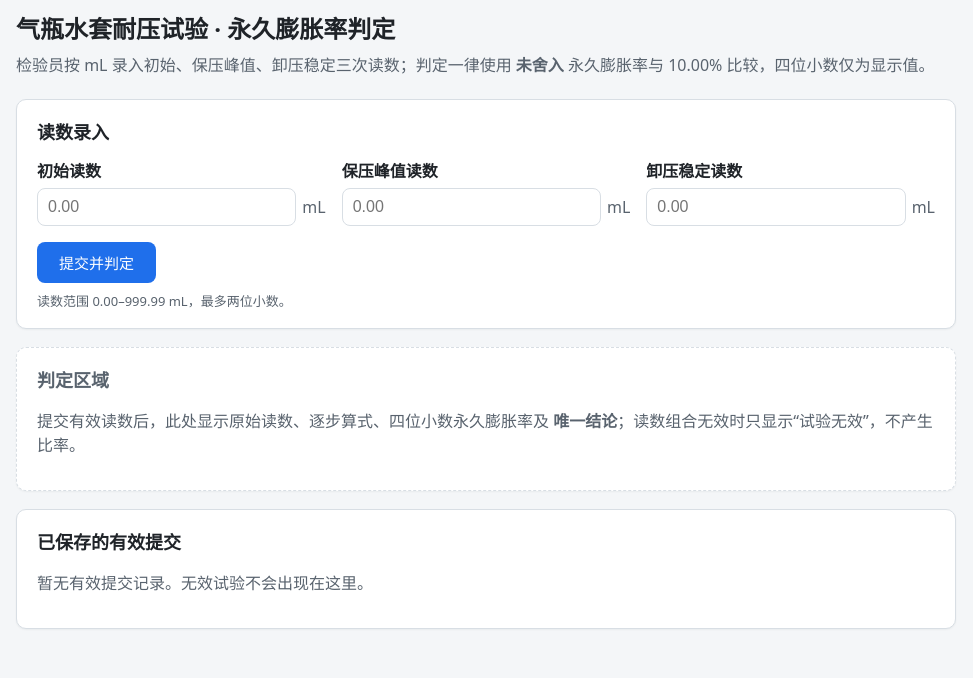
App 判定流程（fetch 为接缝，展示与交互全真实） › 无效结论在修改读数时也立即清除
Type "10.00" into the field with test id "input-initial" at [167, 207], box [37, 188, 296, 226]
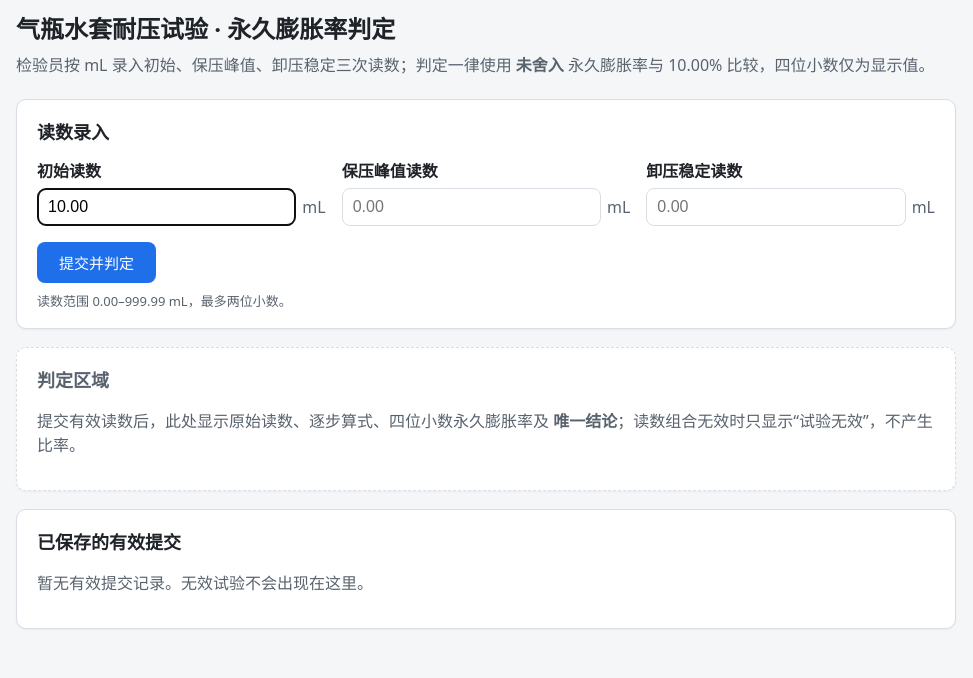
Type "20.00" into the field with test id "input-peak" at [471, 207], box [342, 188, 601, 226]
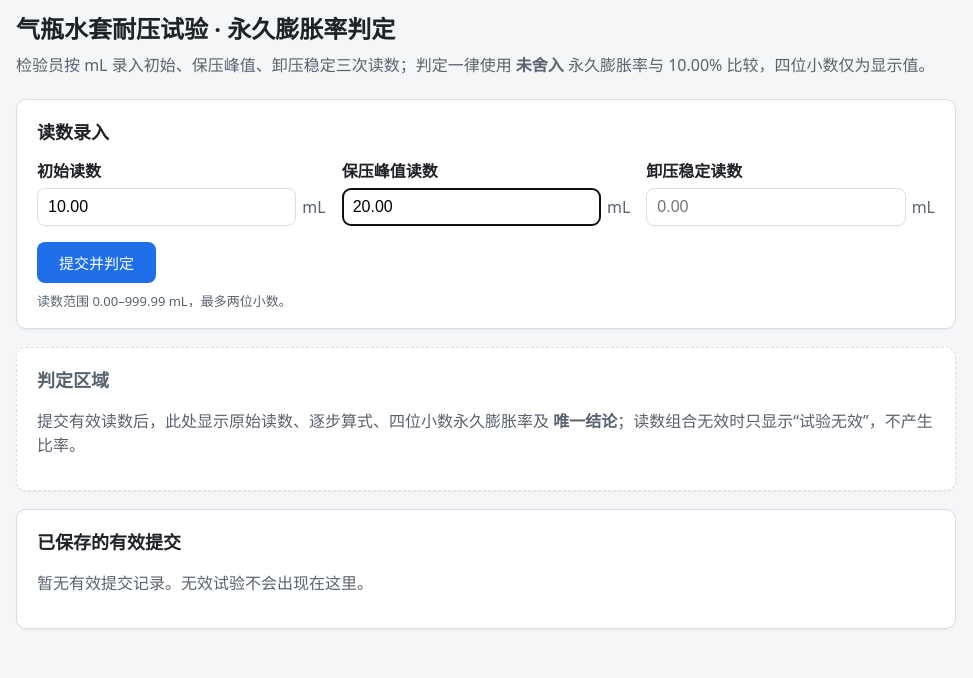
Type "9.99" into the field with test id "input-released" at [776, 207], box [646, 188, 906, 226]
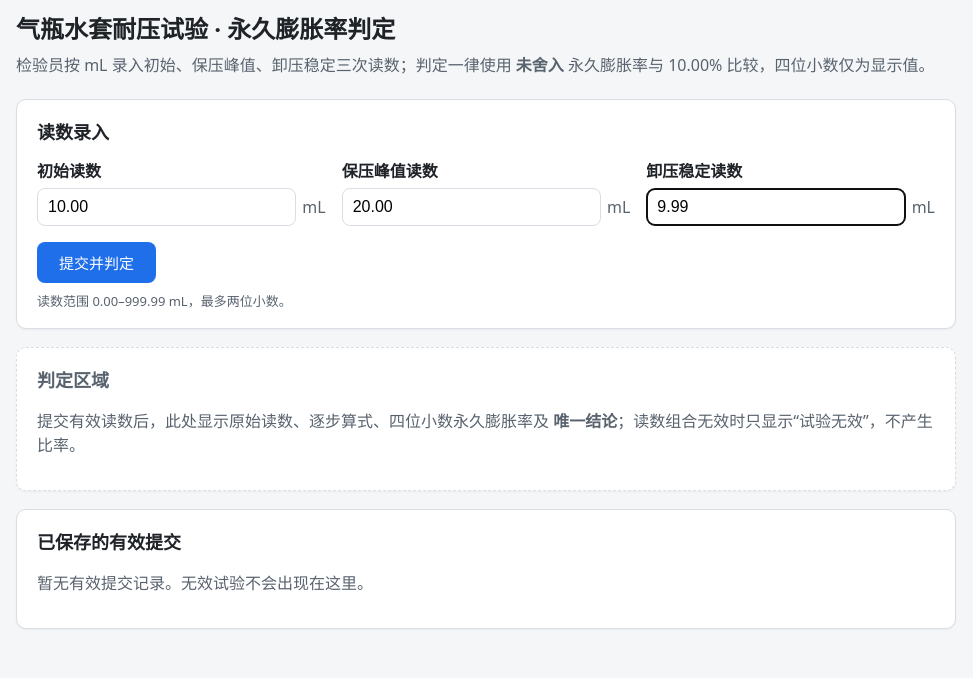
Click the button with test id "submit-button" at [96, 262], box [37, 242, 156, 283]
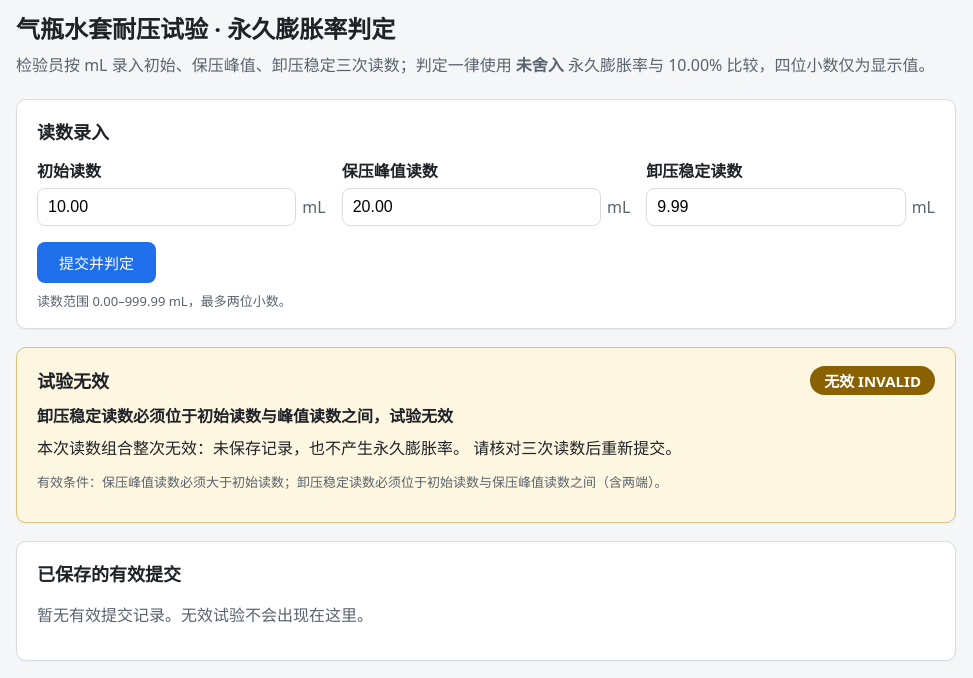
Expected: the element with test id "invalid-panel" is shown, [16, 347, 956, 523]
Type "5" into the field with test id "input-released" at [776, 207], box [646, 188, 906, 226]
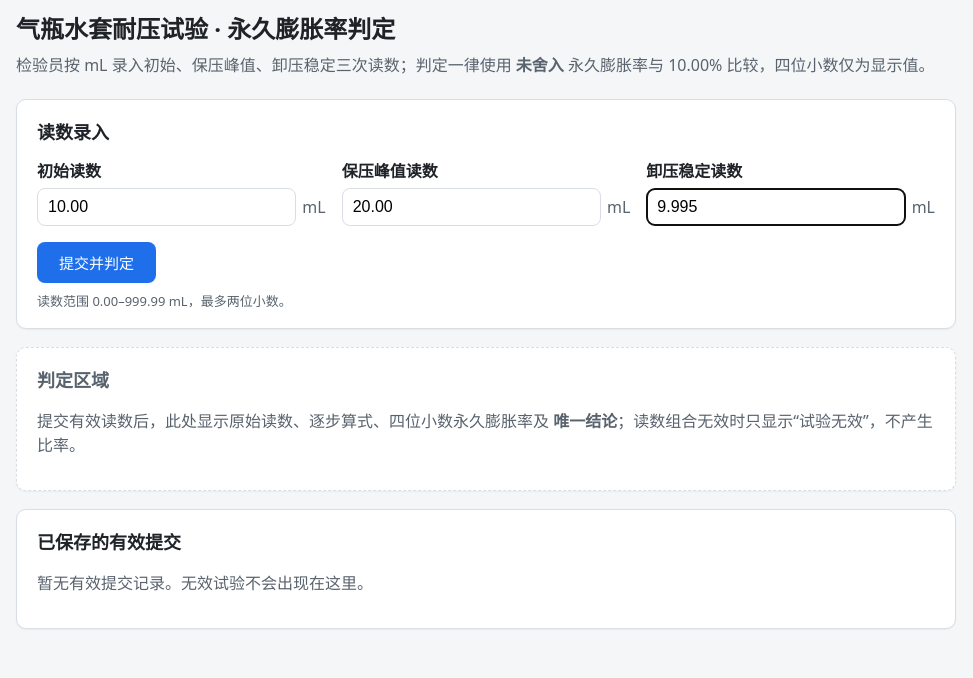
Expected: the element with test id "invalid-panel" is gone
